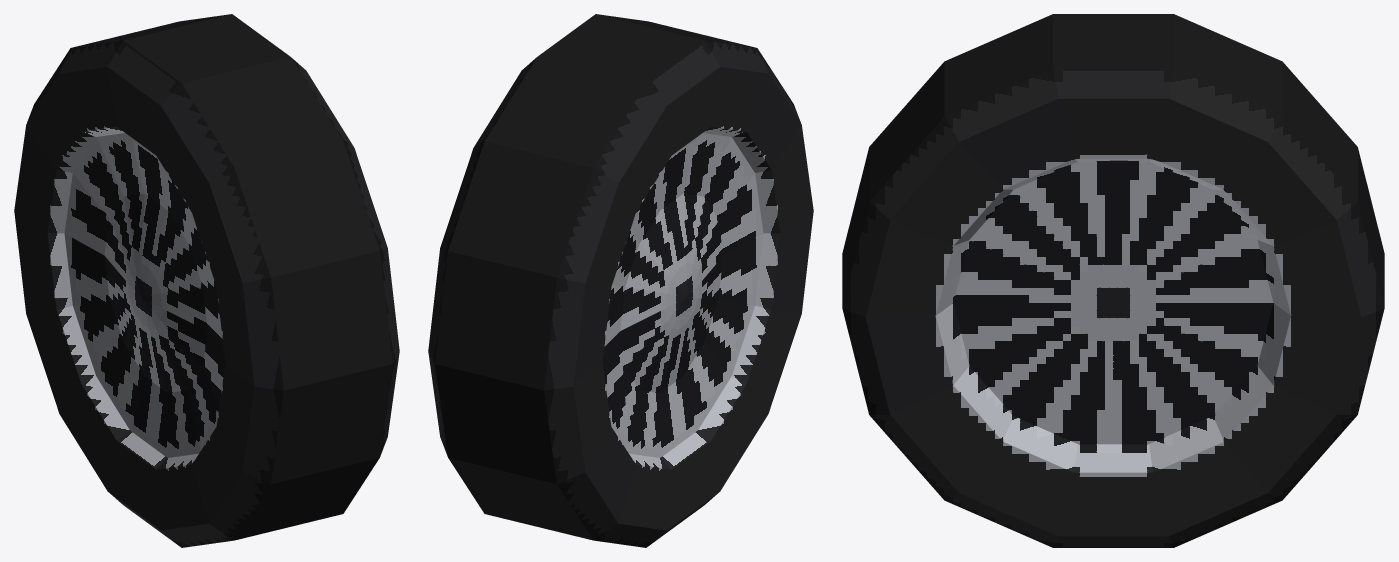
File: wheel_alloy15_l.glb
The picture shows the model from 3 angles, left to right: view 1: azimuth 30°, elevation 25°; view 2: azimuth 150°, elevation 25°; view 3: azimuth 270°, elevation 25°; orthographic projection. The views are drawn at different scales.
Parts seen in each view (by area): view 1: Wheel; view 2: Wheel; view 3: Wheel.
Boxes of the visible parts, bbox=[...] form: Wheel: bbox=[14, 14, 399, 547]; Wheel: bbox=[428, 14, 813, 547]; Wheel: bbox=[842, 14, 1384, 547].
Bounding box in the file's own units: 0.185 × 0.5655 × 0.58.
Materials: 2 (1 with a texture image).
